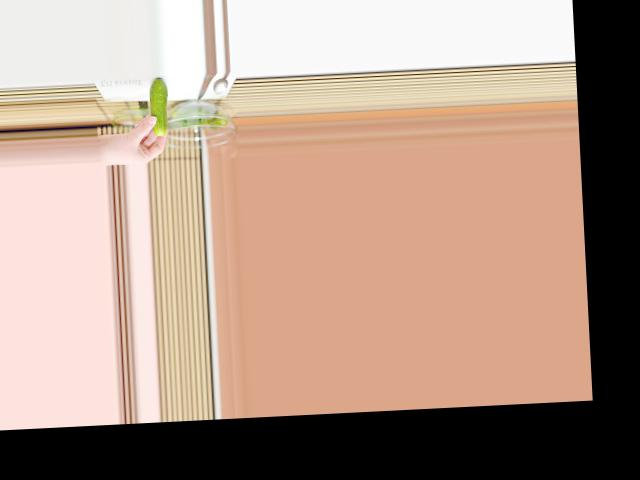cucumber: (148, 77, 169, 136)
